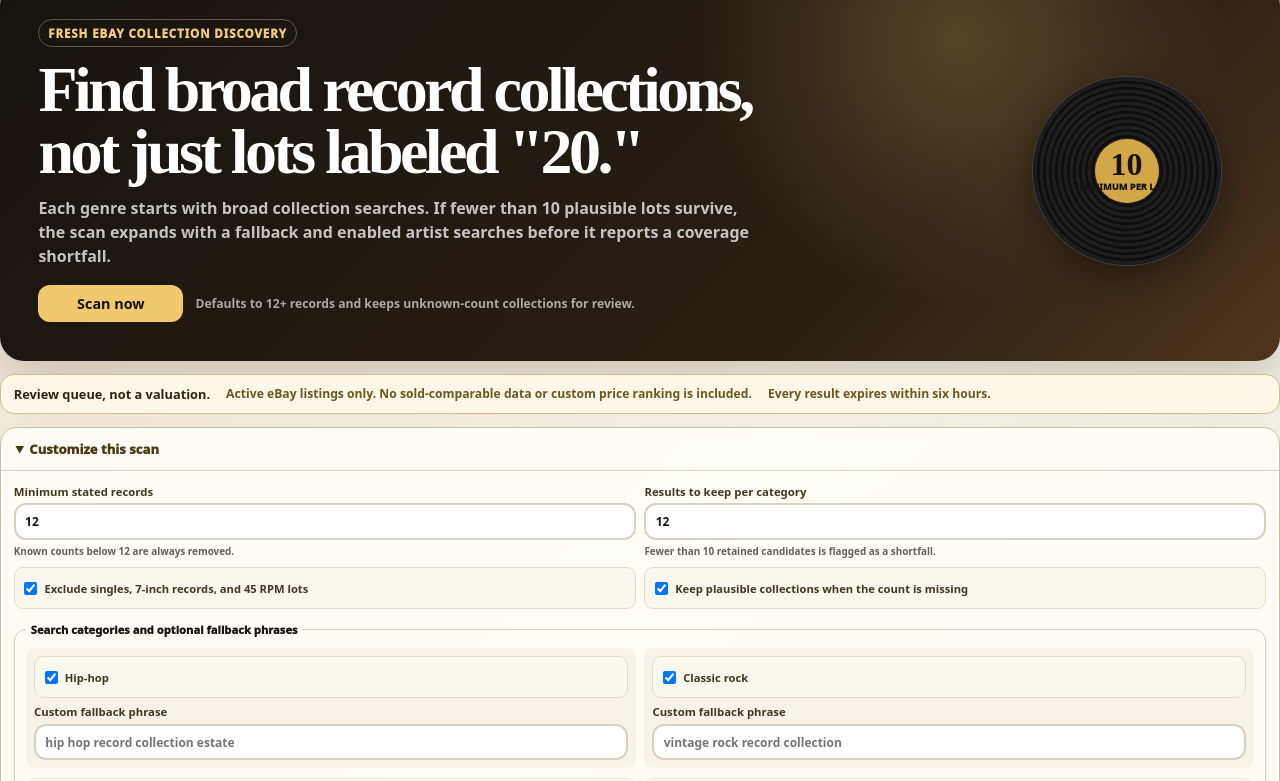
VinylLotFinder › clears a rejected saved key and reopens the access panel
Click the button "Scan now": click(111, 304) [38, 285, 183, 322]
(page scrolled)
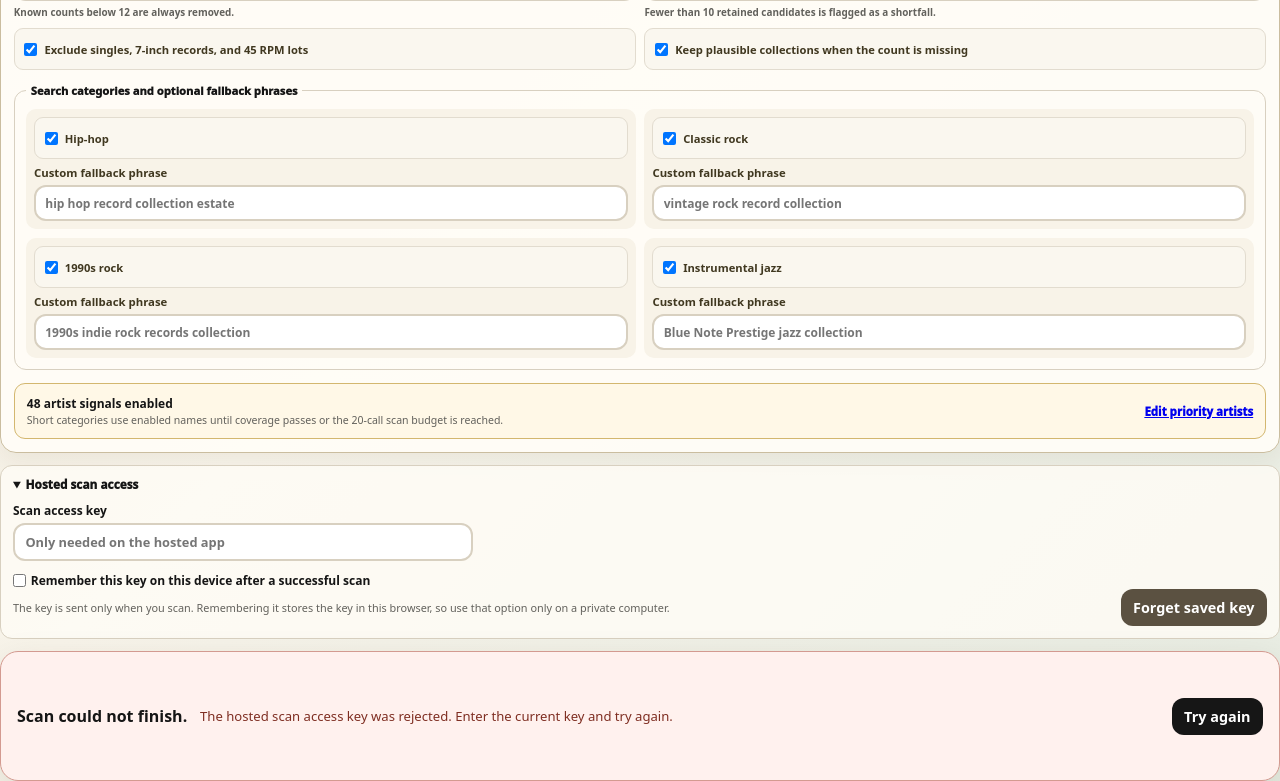
Check: the password field labelled "Scan access key" is empty, box [13, 524, 473, 562]
Check: the text "access key was rejected" is shown, box [200, 707, 673, 725]
